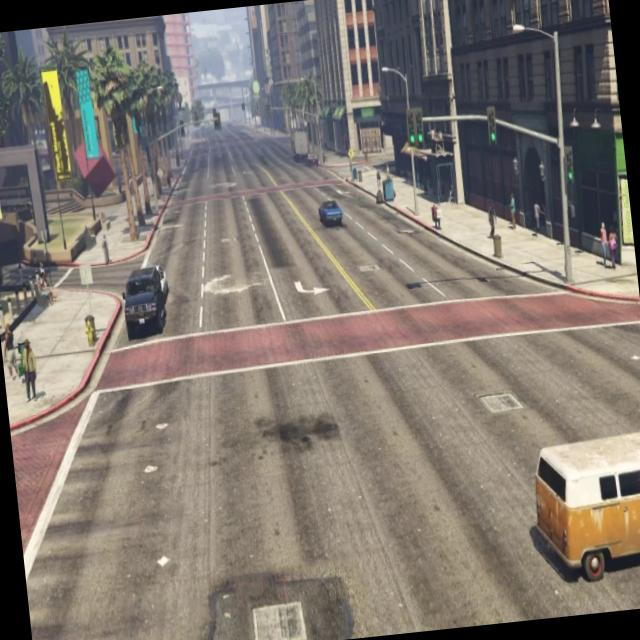Green-Signal: (400, 97, 430, 162), (482, 100, 504, 162), (558, 139, 580, 192)
